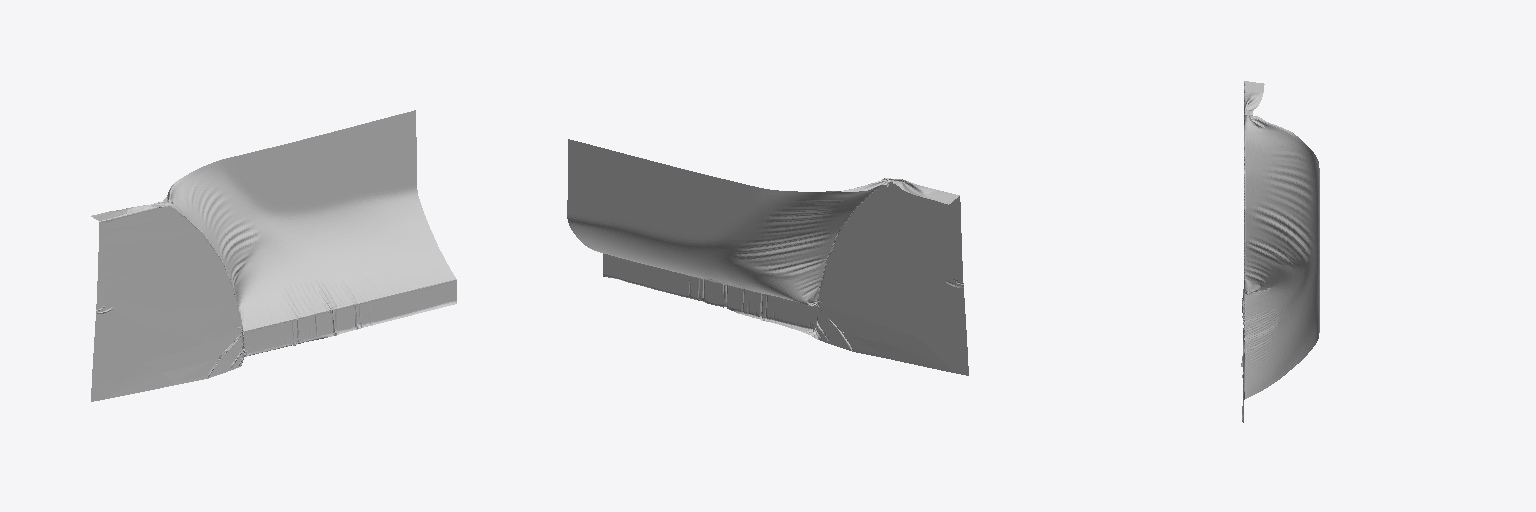
The model's file is flow.obj.
The picture shows the model from 3 angles: view 1: azimuth 30°, elevation 25°; view 2: azimuth 150°, elevation 25°; view 3: azimuth 270°, elevation 25°; orthographic projection.
Bounding box in the file's own units: 92.95 × 45.15 × 17.38.